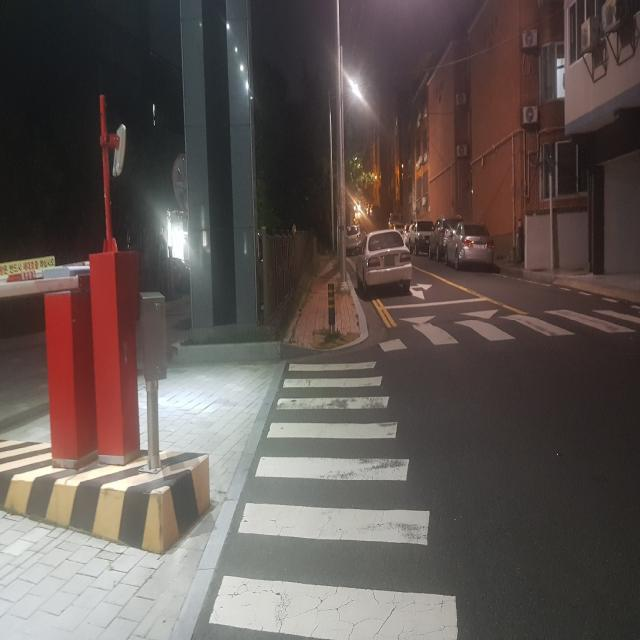횡단보도: (209, 362, 458, 640), (361, 306, 640, 354)
